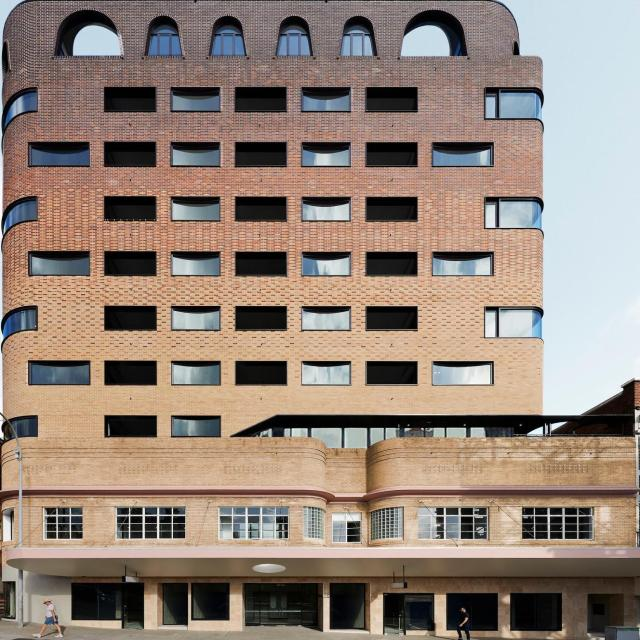door: (122, 585, 146, 629), (383, 595, 404, 636)
window: (248, 416, 634, 448), (72, 584, 146, 630), (244, 584, 316, 627), (384, 594, 434, 636), (417, 508, 487, 537), (510, 594, 563, 632), (445, 594, 497, 631), (118, 508, 184, 537), (220, 510, 286, 539), (523, 510, 589, 539), (485, 197, 543, 228), (0, 89, 38, 135), (1, 198, 39, 242), (331, 582, 365, 629), (485, 309, 542, 337), (487, 90, 542, 118), (2, 307, 36, 351), (431, 364, 493, 387), (192, 583, 230, 620), (431, 143, 492, 165), (29, 251, 89, 273), (32, 361, 92, 383), (208, 24, 248, 56), (147, 24, 186, 56), (273, 23, 312, 55), (338, 22, 377, 54), (31, 144, 90, 164), (431, 256, 493, 275), (0, 418, 39, 448), (161, 583, 188, 626), (46, 508, 82, 537), (302, 145, 350, 166), (301, 254, 349, 275), (303, 309, 351, 330), (172, 308, 220, 329), (171, 145, 218, 166), (170, 254, 217, 275), (332, 513, 362, 543), (302, 92, 350, 109), (174, 95, 222, 112), (170, 201, 217, 218), (171, 365, 218, 382), (171, 419, 218, 436), (301, 202, 349, 218), (302, 366, 350, 382)
